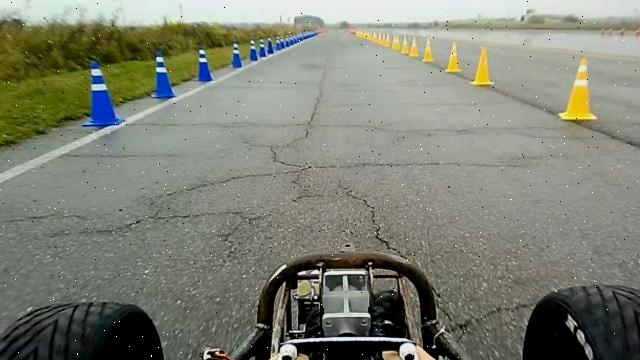blue cone: (81, 60, 125, 127), (150, 50, 177, 98), (192, 45, 214, 82), (231, 42, 243, 68), (248, 39, 258, 61), (258, 38, 267, 57), (267, 37, 274, 55), (275, 36, 282, 51)
yellow cone: (558, 57, 598, 121), (470, 46, 494, 86), (444, 40, 462, 73), (422, 37, 434, 62), (408, 36, 418, 58), (400, 36, 410, 55), (391, 34, 400, 52)
